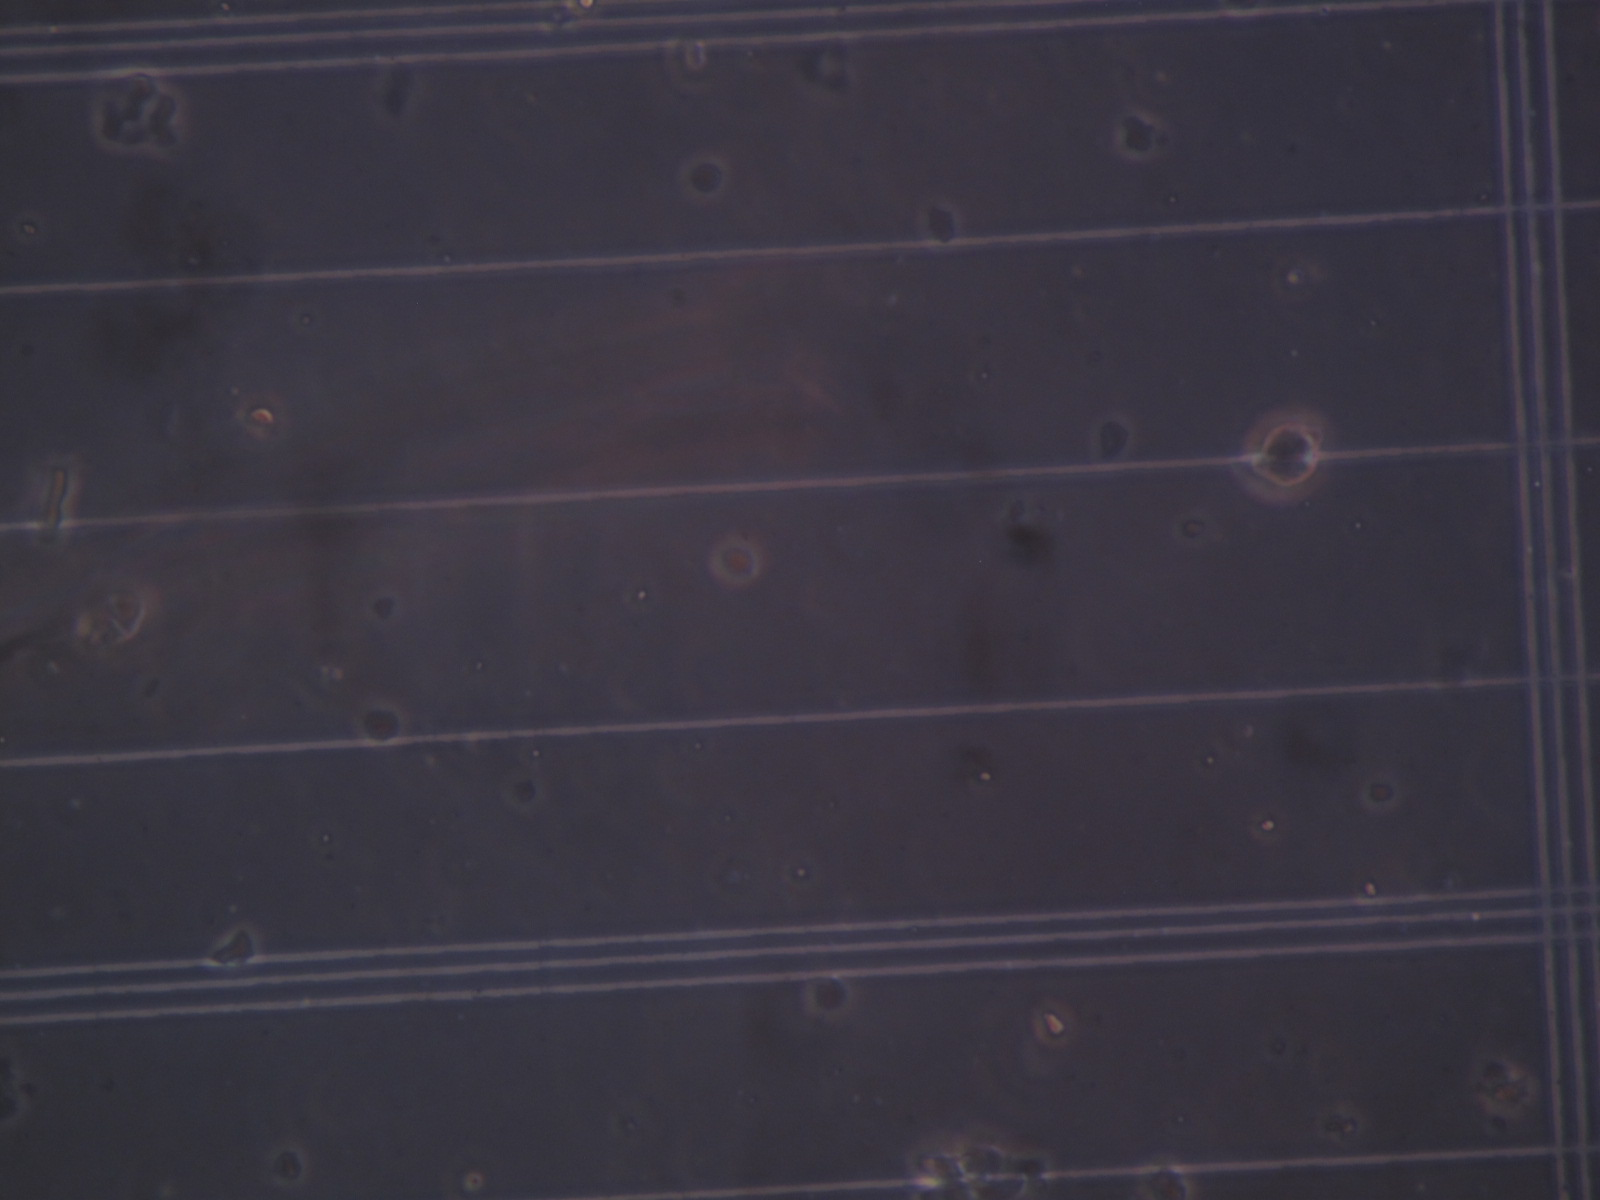hemo: (1230, 408, 1327, 508), (72, 579, 161, 661), (675, 153, 731, 207), (357, 697, 409, 754), (706, 533, 761, 584), (915, 195, 961, 255), (800, 969, 853, 1021), (496, 765, 546, 819), (1136, 1155, 1194, 1200), (1089, 410, 1134, 466), (1362, 771, 1401, 813)
